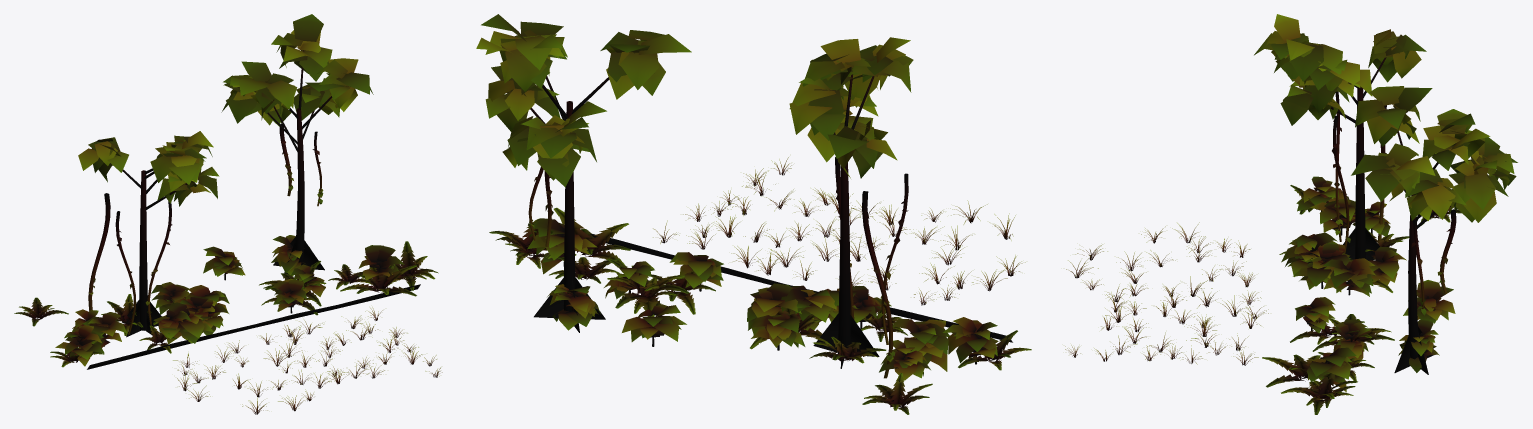
File: patch_paddy_edge.glb
3 renders of one model, left to right at view 1: azimuth 30°, elevation 25°; view 2: azimuth 150°, elevation 25°; view 3: azimuth 270°, elevation 25°, orthographic. The views are drawn at different scales.
Parts seen in each view (by area): view 1: patch_paddy_edge; view 2: patch_paddy_edge; view 3: patch_paddy_edge.
Boxes of the visible parts, bbox=[...] form: patch_paddy_edge: bbox=[14, 14, 442, 414]; patch_paddy_edge: bbox=[476, 14, 1031, 414]; patch_paddy_edge: bbox=[1065, 14, 1517, 414].
Bounding box in the file's own units: 17.47 × 9.99 × 15.51.
1 material, 1 textured.
